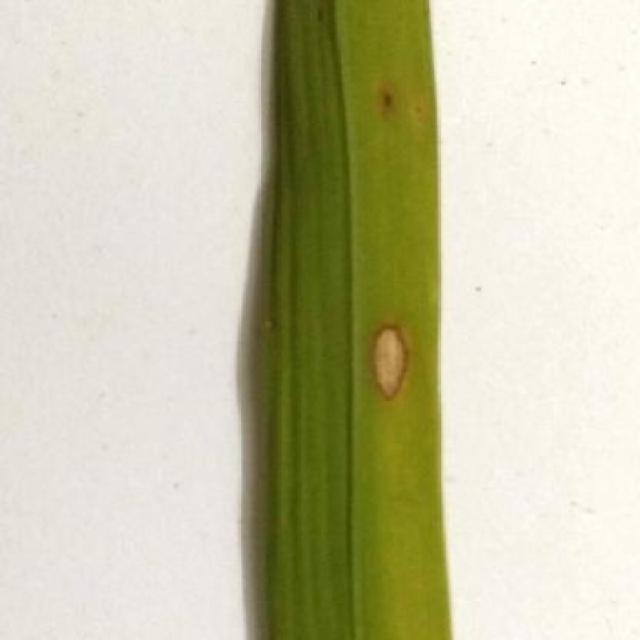Bacterial_Leaf_Blight: (358, 306, 418, 403), (368, 73, 407, 125)
